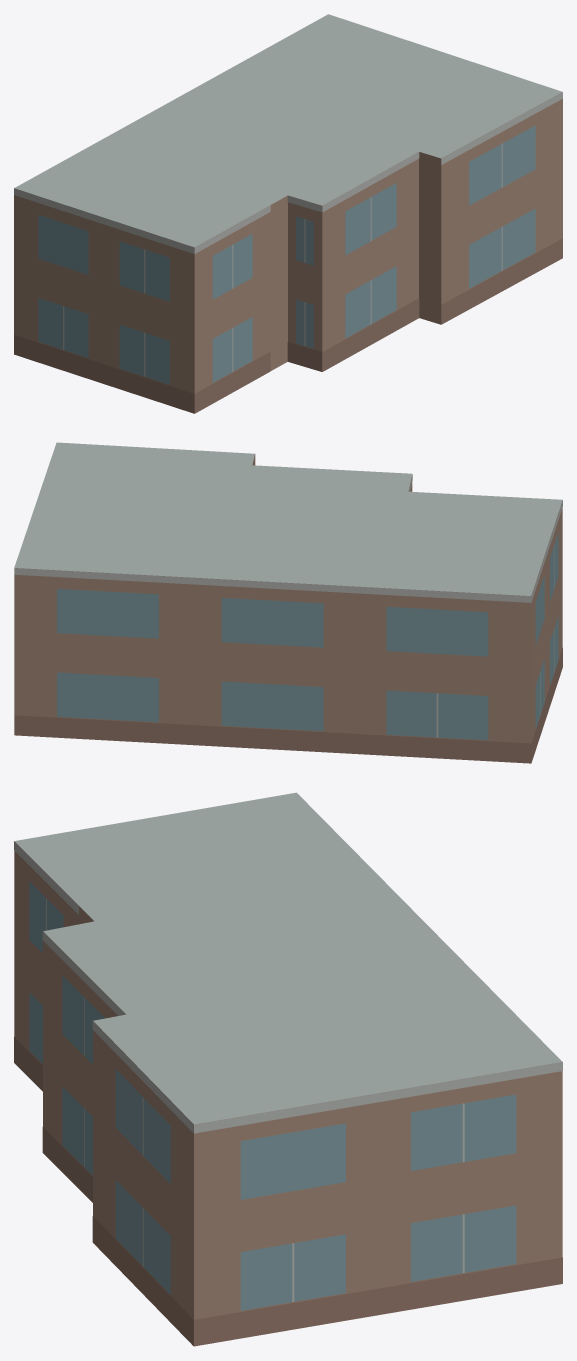
The model's file is survey-upis-32851329.glb.
The picture shows the model from 3 angles, top to bottom: view 1: azimuth 30°, elevation 25°; view 2: azimuth 150°, elevation 25°; view 3: azimuth 270°, elevation 25°; orthographic projection. The views are drawn at different scales.
Parts seen in each view (by area): view 1: survey-upis-32851329.tmp; view 2: survey-upis-32851329.tmp; view 3: survey-upis-32851329.tmp.
Part boxes in pixels (x1,y1,x2,y2): survey-upis-32851329.tmp: (14, 14, 562, 413); survey-upis-32851329.tmp: (14, 442, 562, 763); survey-upis-32851329.tmp: (14, 792, 562, 1346).
Size of the model in its own units: 17.99 by 5.6 by 12.56.
